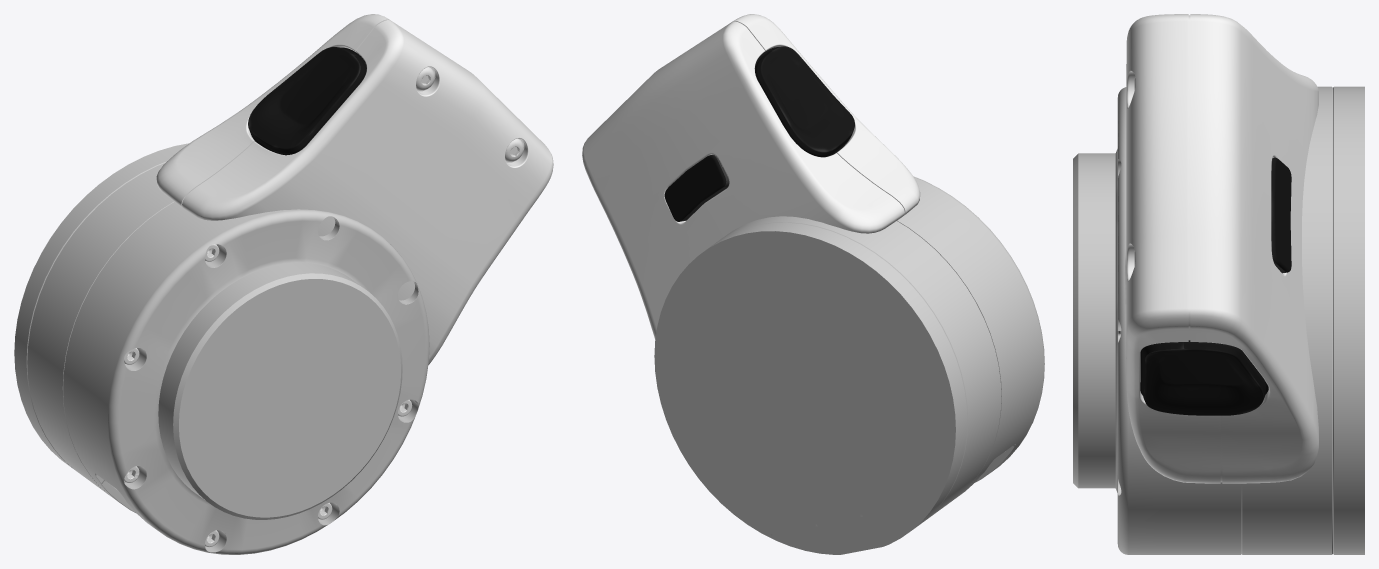
3 renders of one model, left to right at view 1: azimuth 30°, elevation 25°; view 2: azimuth 150°, elevation 25°; view 3: azimuth 270°, elevation 25°, orthographic. The views are drawn at different scales.
Parts seen in each view (by area): view 1: link7; view 2: link7; view 3: link7.
Boxes of the visible parts, x1,y1,x2,y2 form: link7: (14, 14, 553, 554); link7: (582, 14, 1044, 554); link7: (1073, 14, 1364, 554).
Size of the model in its own units: 0.1253 by 0.1253 by 0.0548.
1 material, 1 textured.
